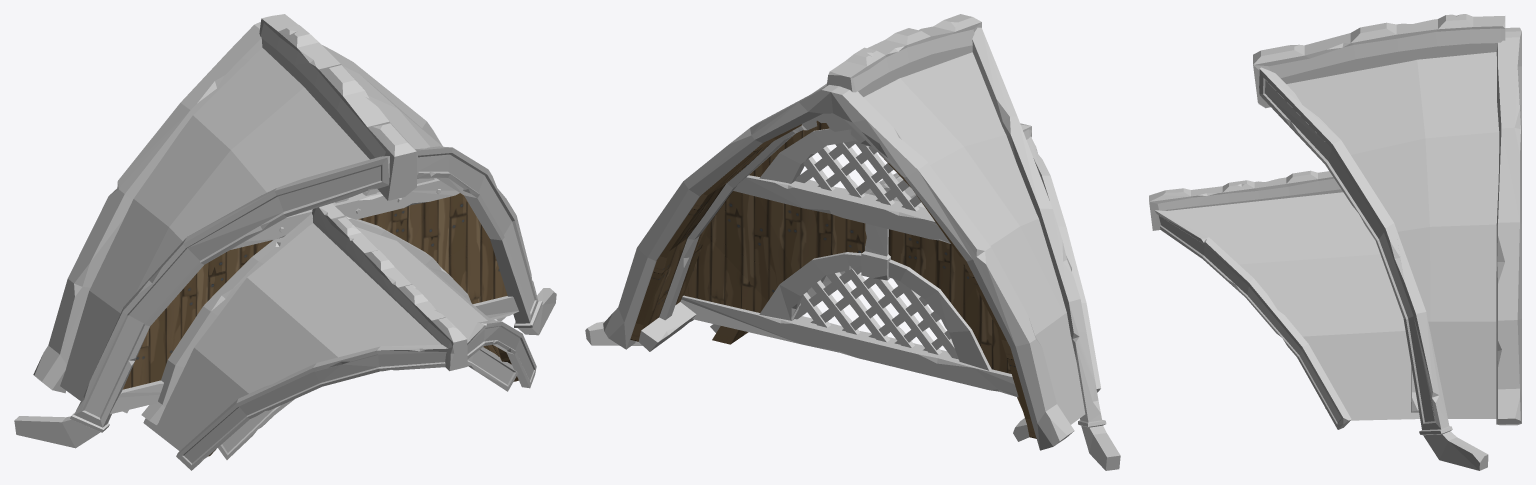
The model's file is SM_Bld_Hall_Roof_End_01.fbx.
3 views of the same model, side by side, from view 1: azimuth 30°, elevation 25°; view 2: azimuth 150°, elevation 25°; view 3: azimuth 270°, elevation 25° (orthographic). The views are drawn at different scales.
Visible parts, largest first — view 1: SM_Bld_Hall_Roof_End_01; view 2: SM_Bld_Hall_Roof_End_01; view 3: SM_Bld_Hall_Roof_End_01.
Part boxes in pixels (bbox=[...]): SM_Bld_Hall_Roof_End_01: bbox=[14, 14, 556, 470]; SM_Bld_Hall_Roof_End_01: bbox=[585, 14, 1120, 470]; SM_Bld_Hall_Roof_End_01: bbox=[1149, 14, 1521, 470].
Bounding box in the file's own units: 1738 × 1088 × 1092.
